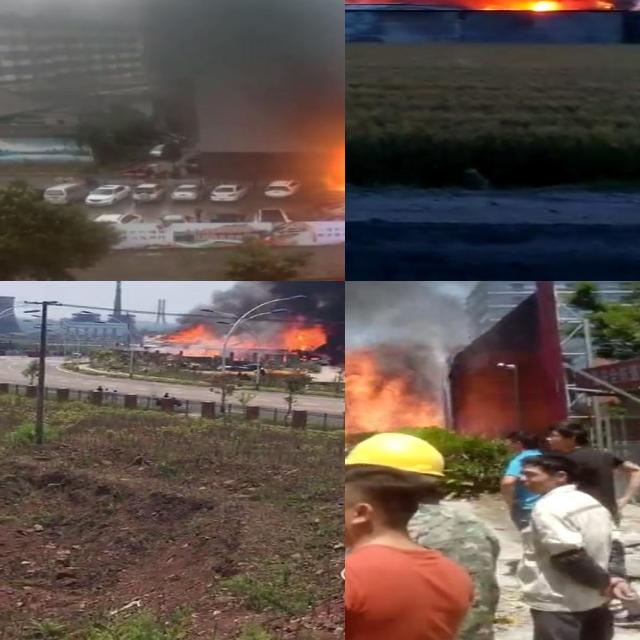fire: (345, 351, 443, 450), (158, 319, 324, 356), (462, 0, 619, 14), (276, 319, 326, 352)
smoke: (0, 0, 345, 135), (345, 281, 474, 354)
